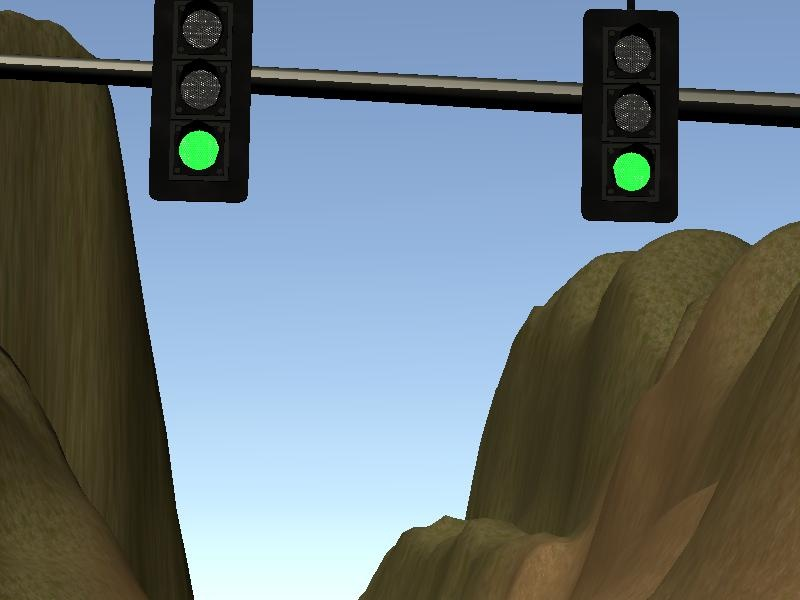green: (580, 7, 677, 219), (152, 1, 251, 201)
